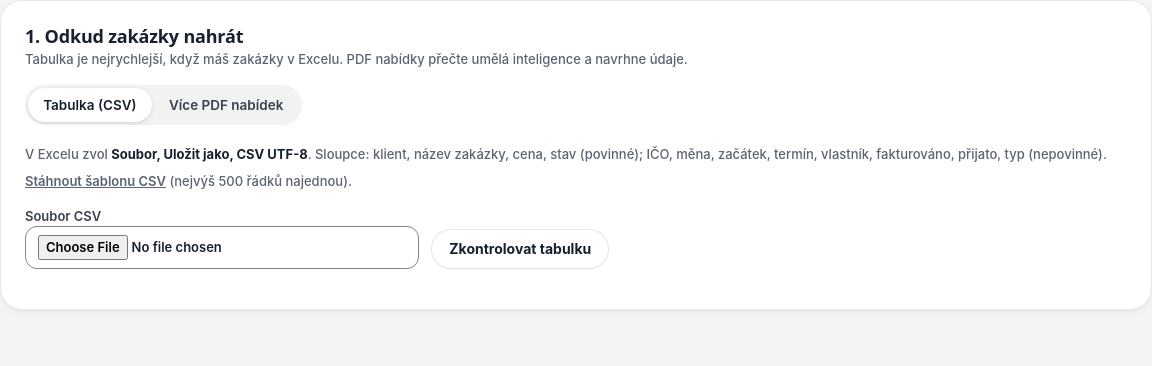
BulkImport: zdroje › přepínač zdroje je jen aria-pressed (ne aria-current — není to odkaz)
This screenshot has width=1152, height=366.
Click the button "Více PDF nabídek" at (226, 105), box [154,88,299,122]
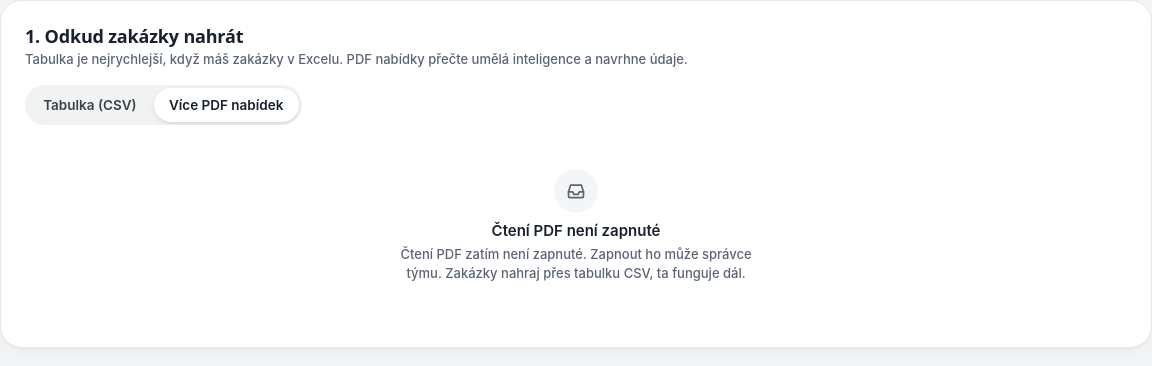
expect the button "Více PDF nabídek" is pressed: met, box [154,88,299,122]
